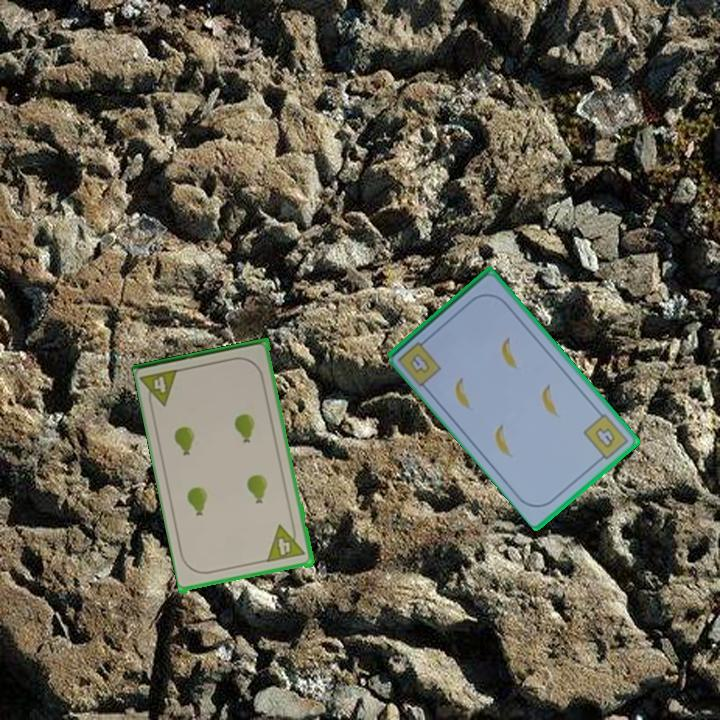4b: (580, 410, 631, 465), (406, 349, 433, 377)
4p: (139, 366, 183, 412), (264, 520, 308, 565)
